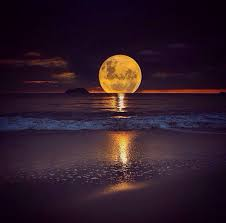moon: (98, 53, 143, 94)
